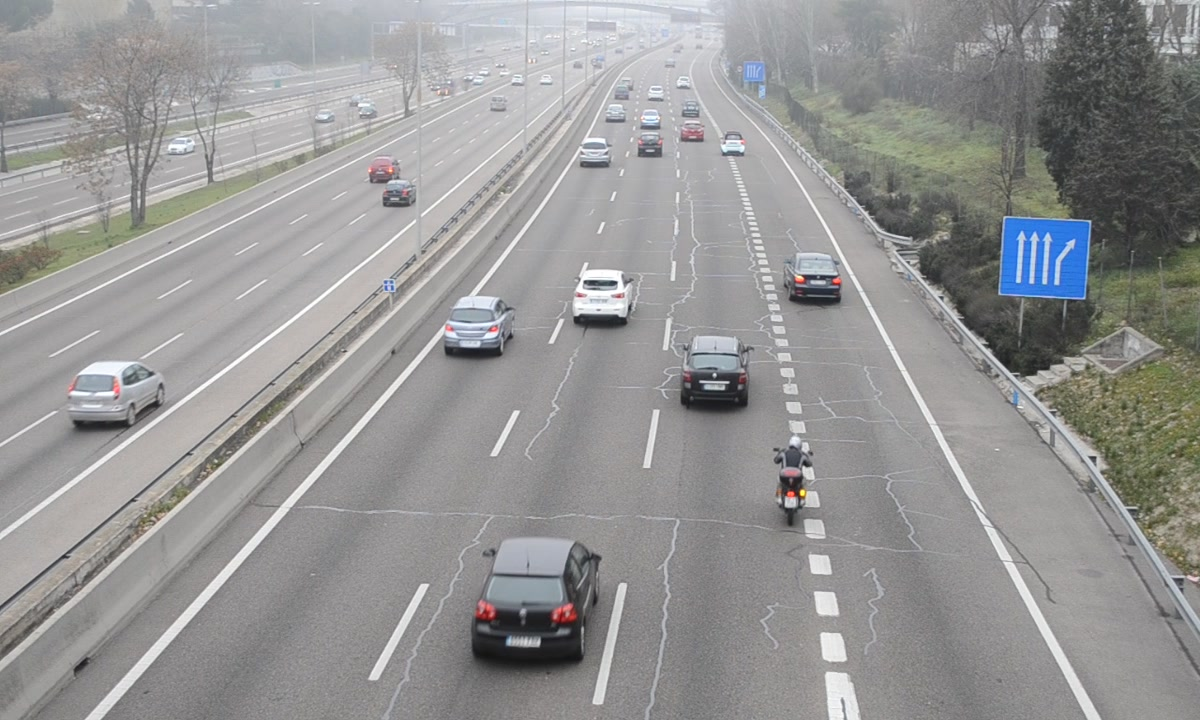car: (473, 537, 599, 662), (680, 335, 748, 404), (443, 295, 513, 349), (573, 269, 632, 323), (785, 253, 841, 302), (579, 137, 612, 168), (720, 130, 745, 157), (638, 131, 663, 158), (680, 120, 706, 143)
motorcycle: (772, 438, 816, 526)
